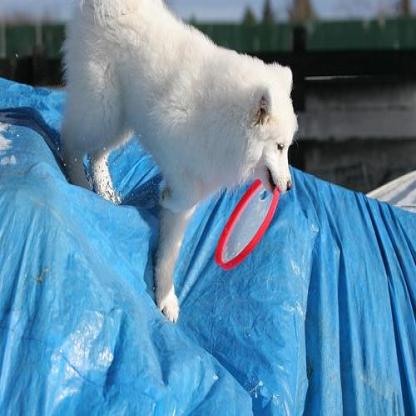Samoyed: (55, 0, 299, 324)
